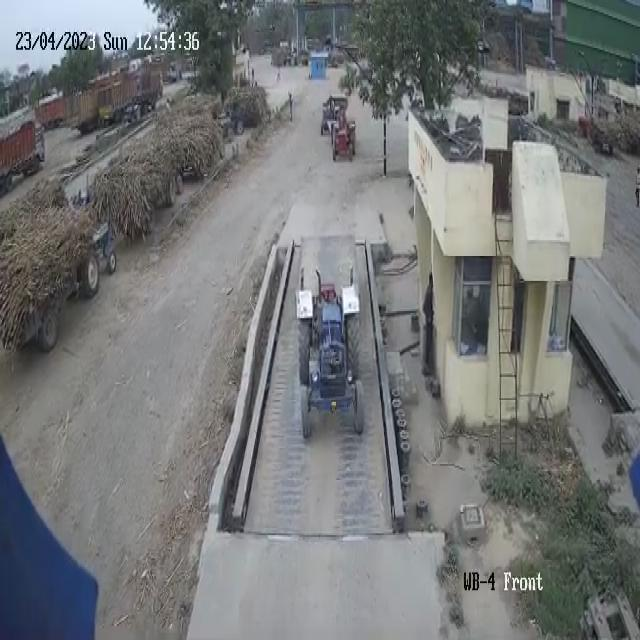Tratores - v5 YOLO V8L 2024-11-13: (292, 262, 372, 450), (72, 209, 120, 294), (327, 107, 360, 165)
